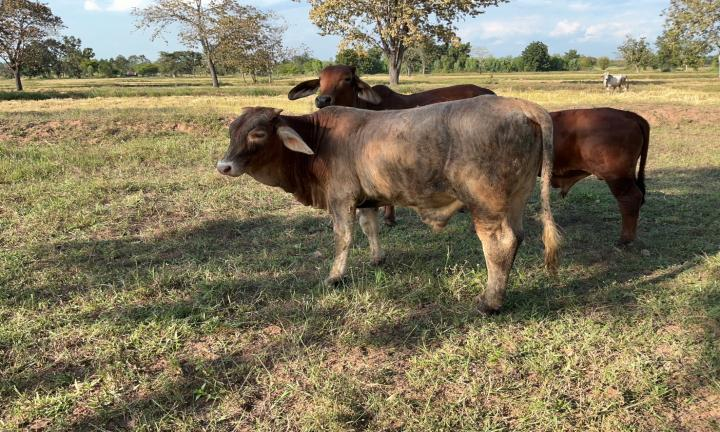Charolais: (217, 95, 561, 314)
